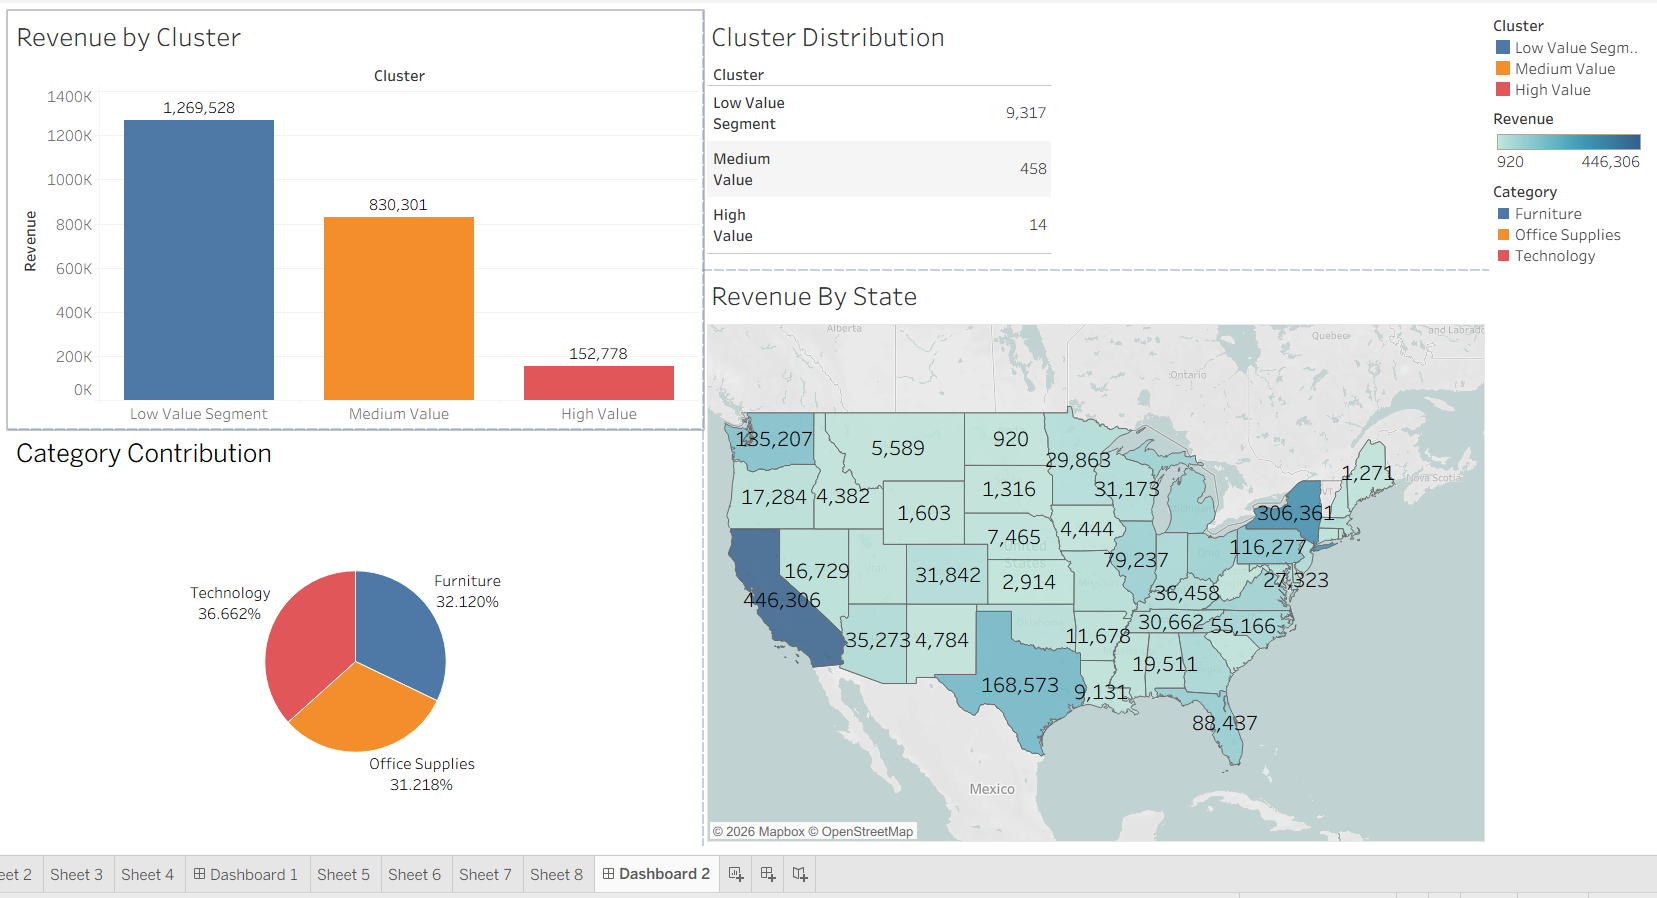

Layout of this report page (visuals, bound fields, positions):
{"tool":"tableau","page":{"name":"Dashboard 2","canvas":[1000,1000],"units":"permille","ordinal":1},"visuals":[{"type":"worksheet","title":"Sheet 5","mark":"Automatic","rows":["Revenue"],"cols":["Cluster"],"box":[4.8,9.4,419.4,490.6]},{"type":"worksheet","title":"Sheet 6","mark":"Automatic","rows":["Cluster"],"box":[424.3,9.4,474.4,304.4]},{"type":"legend","title":"Sheet 5","param":"[federated.1e5gk7t1kl1pcg1ds8s4l16efz3q].[none:Cluster:ok]","box":[898.6,9.4,96.6,109.3]},{"type":"legend","title":"Sheet 7","param":"[federated.1e5gk7t1kl1pcg1ds8s4l16efz3q].[sum:Revenue:qk]","box":[898.6,118.7,96.6,85.8]},{"type":"legend","title":"Sheet 8","param":"[federated.1e5gk7t1kl1pcg1ds8s4l16efz3q].[none:Category:nk]","box":[898.6,204.5,96.6,109.3]},{"type":"worksheet","title":"Sheet 7","mark":"Automatic","box":[424.3,313.8,474.4,676.9]},{"type":"worksheet","title":"Sheet 8","mark":"Pie","box":[4.8,500,419.4,490.6]}]}

Visuals, with their boxes on the dashboard's canvas, which has no fixed pixel size, in thousandths of its width and height (x1, y1, x2, y2). These are canvas units, not pixel positions in the 1657x898 screenshot, which may show the page scaled, cropped or inside an application window:
"Sheet 5" worksheet: bbox(5, 9, 424, 500)
"Sheet 6" worksheet: bbox(424, 9, 899, 314)
"Sheet 5" legend: bbox(899, 9, 995, 119)
"Sheet 7" legend: bbox(899, 119, 995, 204)
"Sheet 8" legend: bbox(899, 204, 995, 314)
"Sheet 7" worksheet: bbox(424, 314, 899, 991)
"Sheet 8" worksheet (Pie marks): bbox(5, 500, 424, 991)
